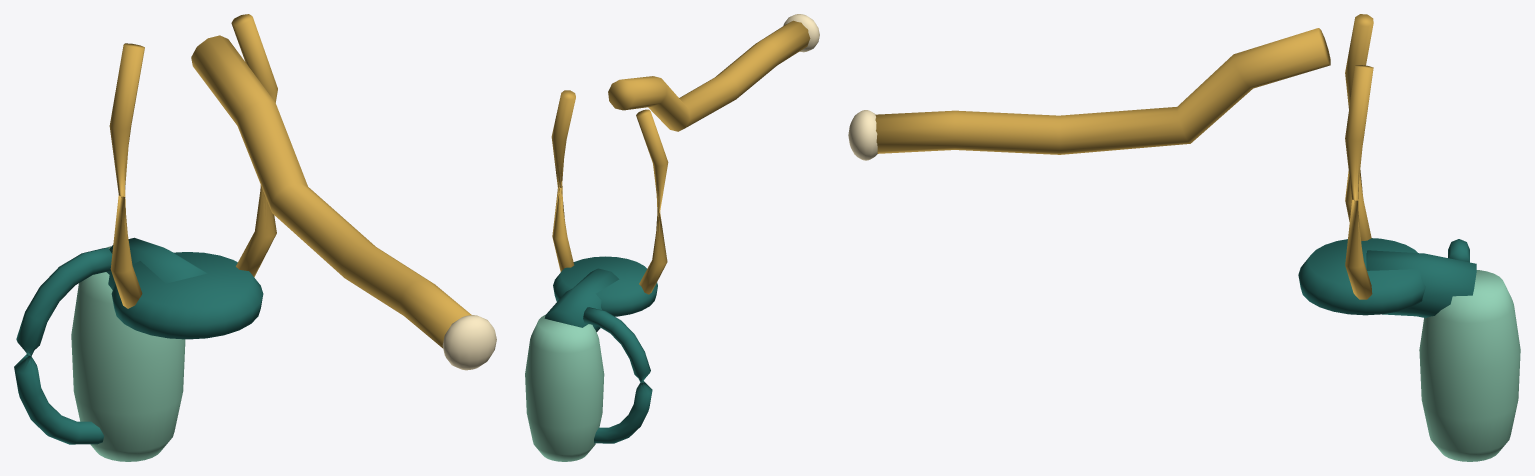
The model's file is Siphon.fbx.
The picture shows the model from 3 angles, left to right: view 1: azimuth 30°, elevation 25°; view 2: azimuth 150°, elevation 25°; view 3: azimuth 270°, elevation 25°; orthographic projection. The views are drawn at different scales.
Visible parts, largest first — view 1: Siphon_Visual; view 2: Siphon_Visual; view 3: Siphon_Visual.
Part boxes in pixels (<box>): Siphon_Visual: <box>14,14,496,461</box>; Siphon_Visual: <box>525,14,819,461</box>; Siphon_Visual: <box>848,14,1520,461</box>.
Size of the model in its own units: 0.1875 by 0.4202 by 0.611.
